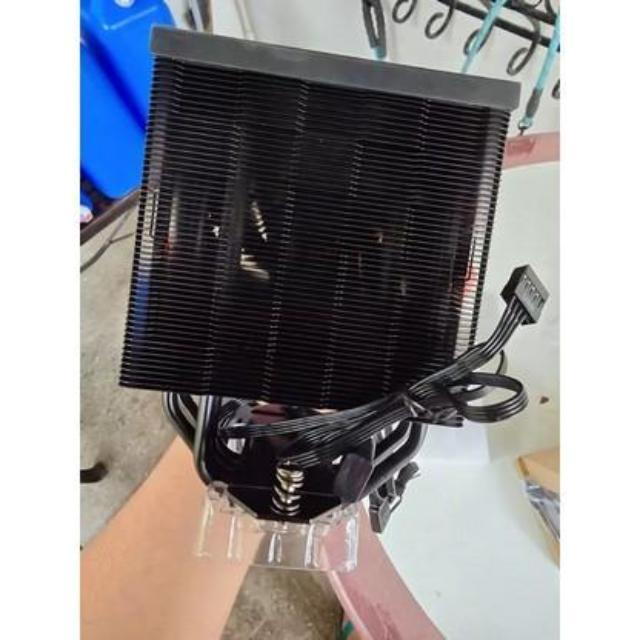CPU_Fan: (119, 14, 521, 524)
